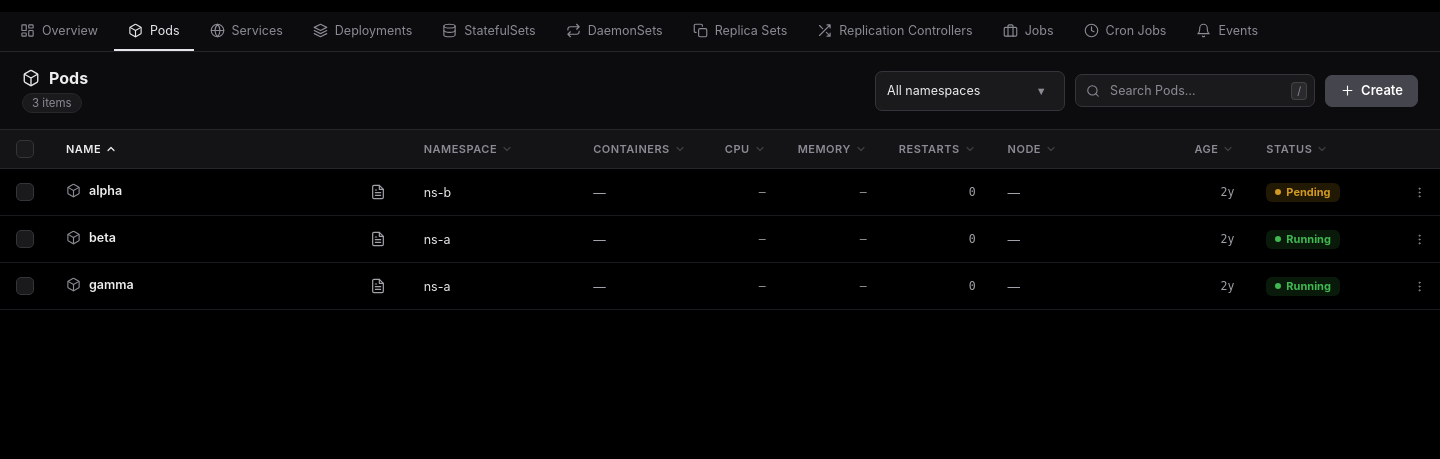
it: ResourceViewer › pods: the Logs button opens that pod's logs
Click the button named "Logs for beta" at (378, 239), box x1=364 y1=225 x2=392 y2=253
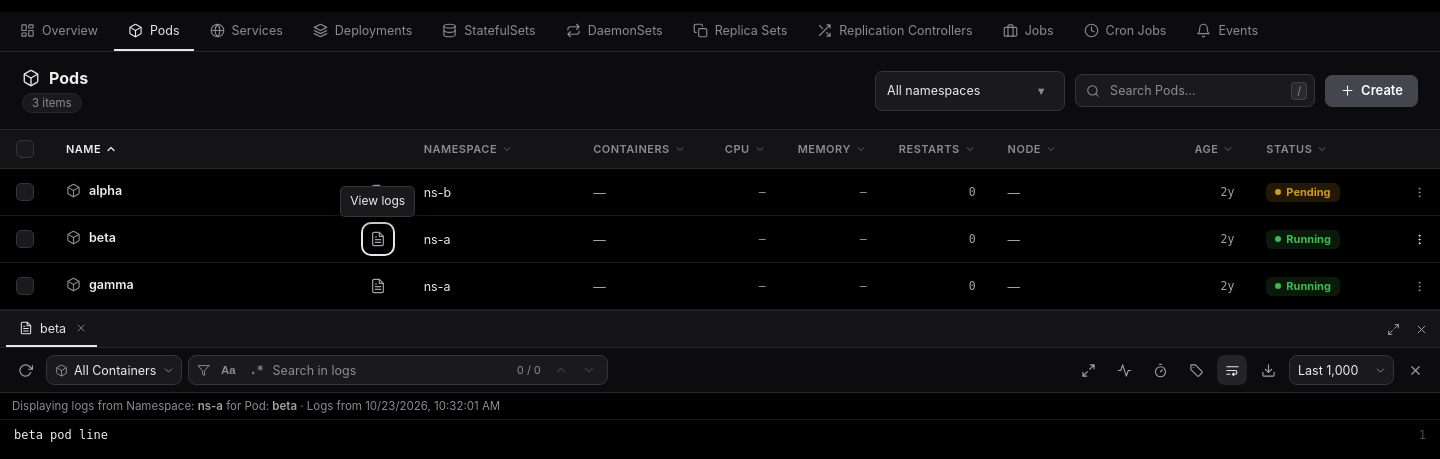
Check: the text "beta pod line" is shown, box x1=14 y1=428 x2=108 y2=442
